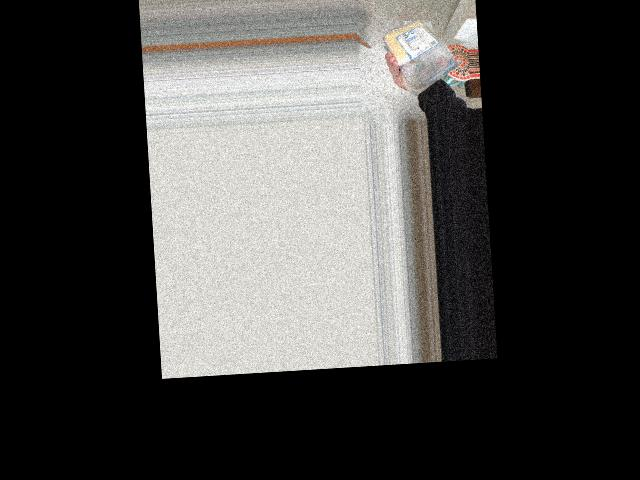cheese: (390, 12, 459, 86)
